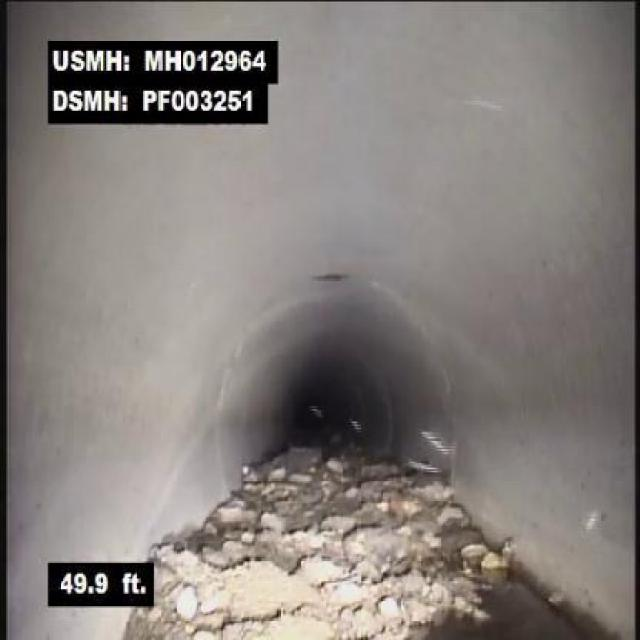Debris: (157, 380, 540, 638)
